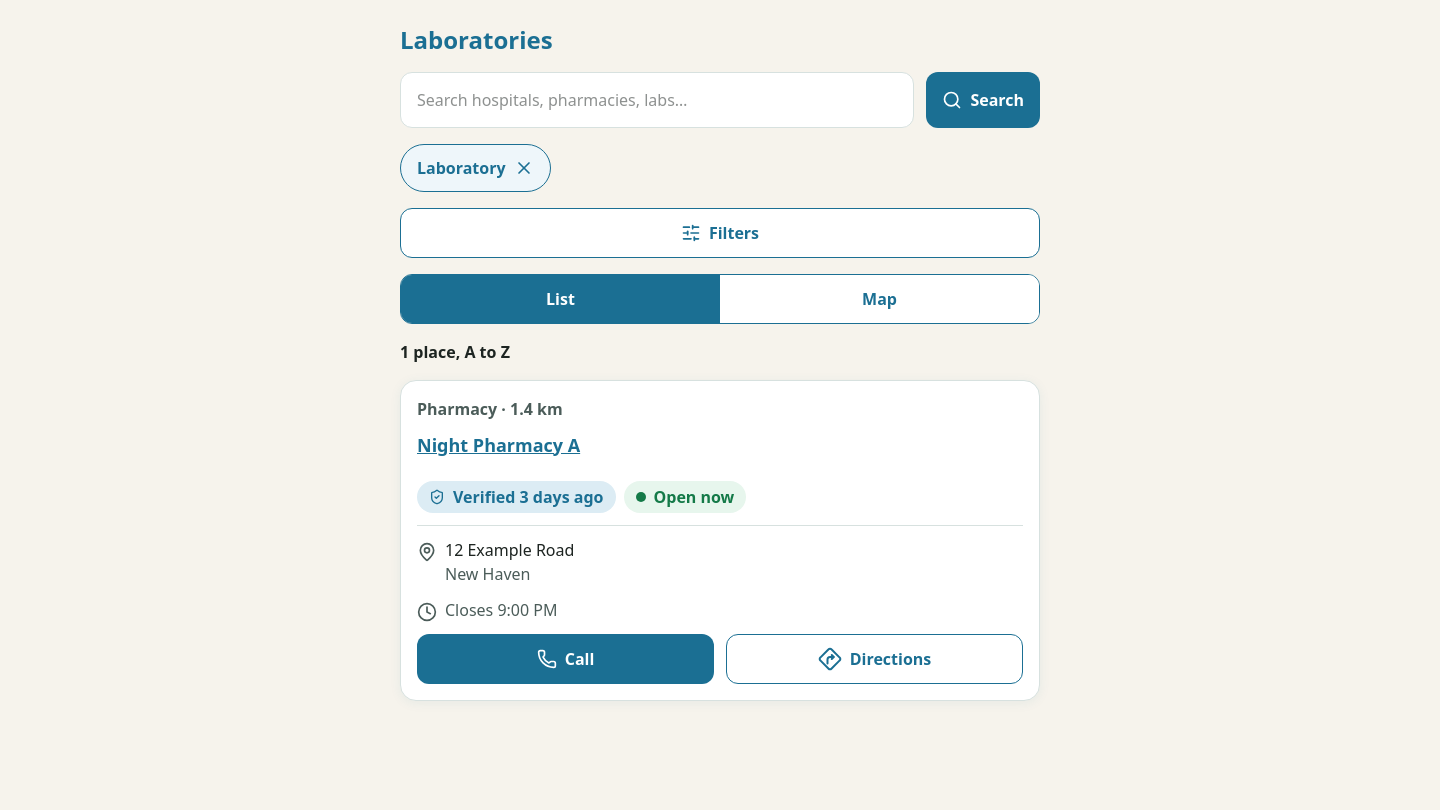
Scenario: the chip (D4) › agrees with the Filters sheet: the category it shows is the chosen type
Expected: the button with aria-label "Remove the Laboratory filter" is shown, [400,144,551,192]
Click the button "Filters". click: (720, 233)
box: [400,208,1040,258]
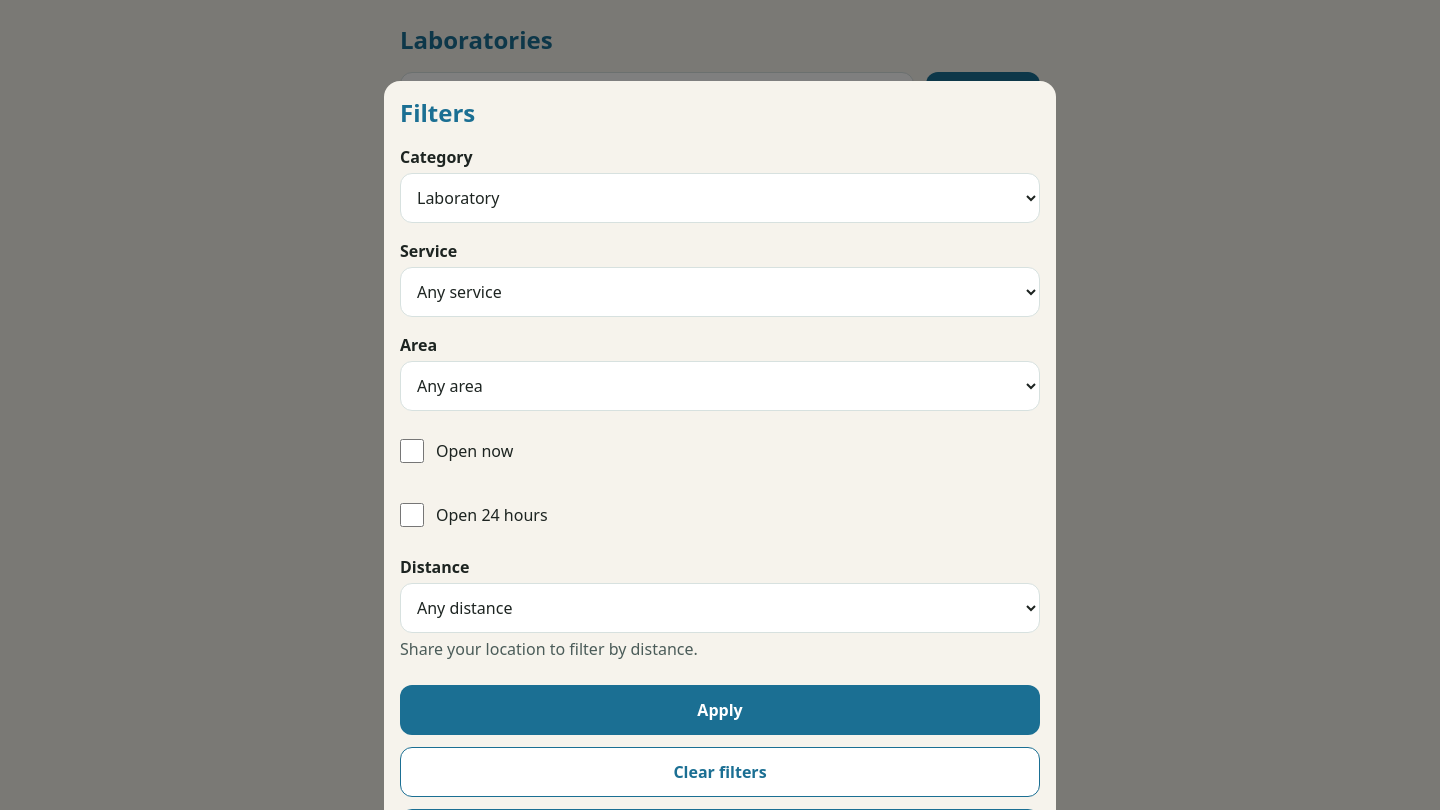
Now the dropdown labelled "Category" shows "Laboratory", box [400,173,1040,223]
